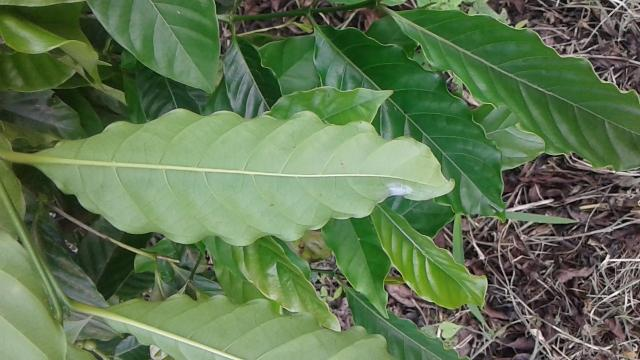healthy: (24, 102, 461, 248)
